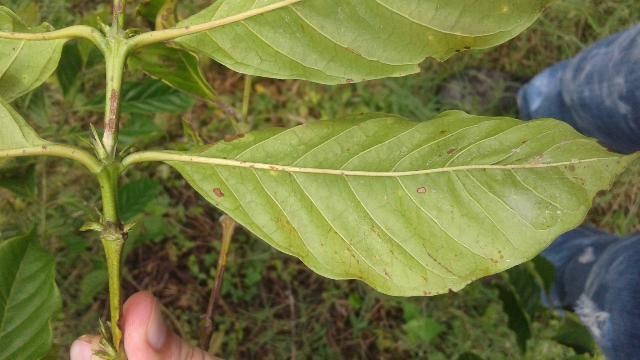rust_level_1: (165, 106, 640, 295)
